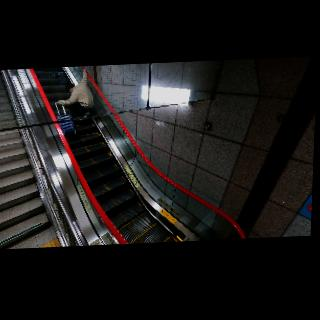anomaly: (49, 68, 95, 121)
